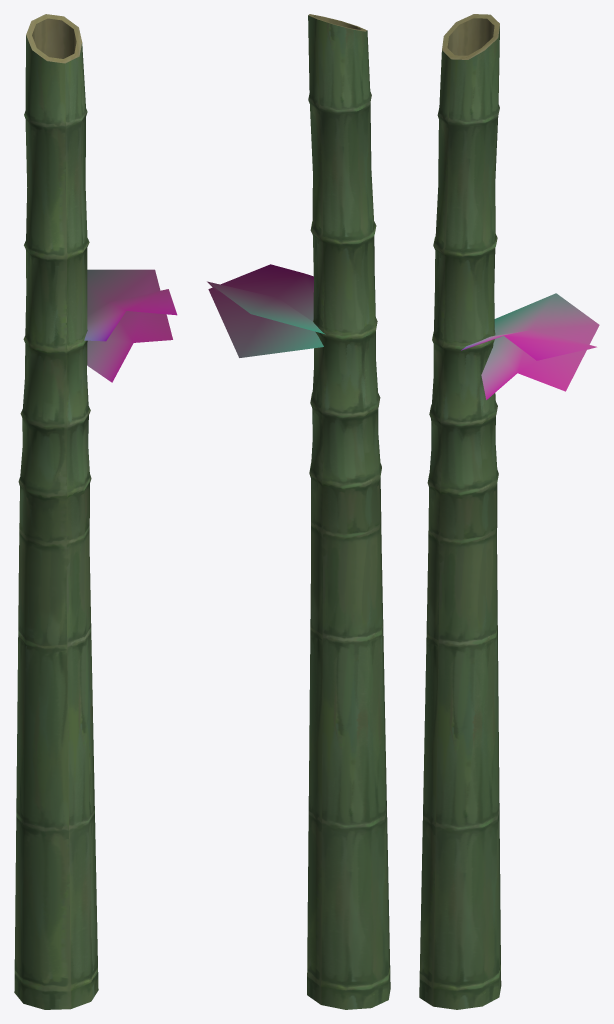
File: SM_EastLands_Bamboo_Tall_01_Stump.fbx
3 renders of one model, left to right at view 1: azimuth 30°, elevation 25°; view 2: azimuth 150°, elevation 25°; view 3: azimuth 330°, elevation 25°, orthographic. The views are drawn at different scales.
Visible parts, largest first — view 1: SM_EastLands_Bamboo_Tall_01_Stump_LOD0; view 2: SM_EastLands_Bamboo_Tall_01_Stump_LOD0; view 3: SM_EastLands_Bamboo_Tall_01_Stump_LOD0.
Part boxes in pixels (left/top/right/bottom): SM_EastLands_Bamboo_Tall_01_Stump_LOD0: left=14, top=14, right=177, bottom=1009; SM_EastLands_Bamboo_Tall_01_Stump_LOD0: left=207, top=14, right=390, bottom=1009; SM_EastLands_Bamboo_Tall_01_Stump_LOD0: left=419, top=14, right=599, bottom=1009.
Bounding box in the file's own units: 90.01 × 515 × 64.56.
